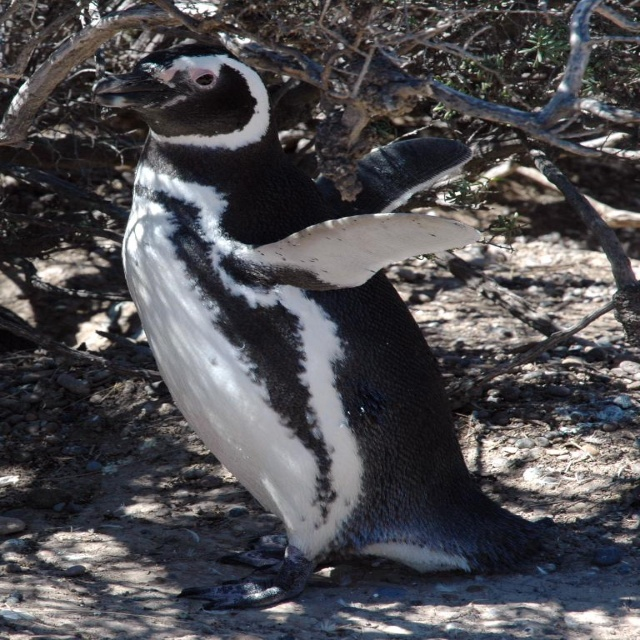Penguin: (80, 36, 558, 617)
